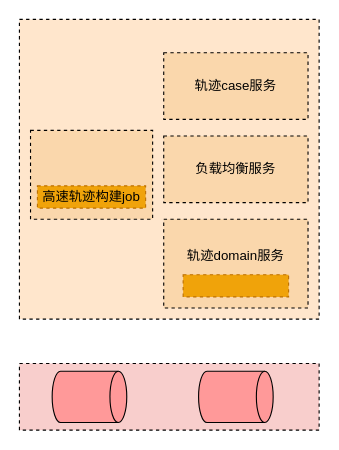
Image size: 339x450. Some labels were removed from this diagram. The box of each missing label's shape, as (x1, y1, x2, y2) in pixels:
地图job服务: (29, 129, 153, 219)
轨迹缓存: (182, 274, 289, 297)
